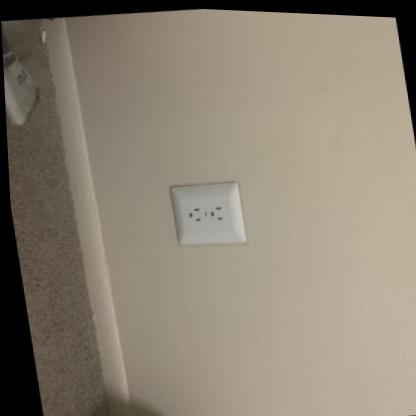OUTLET: (167, 175, 246, 248)
